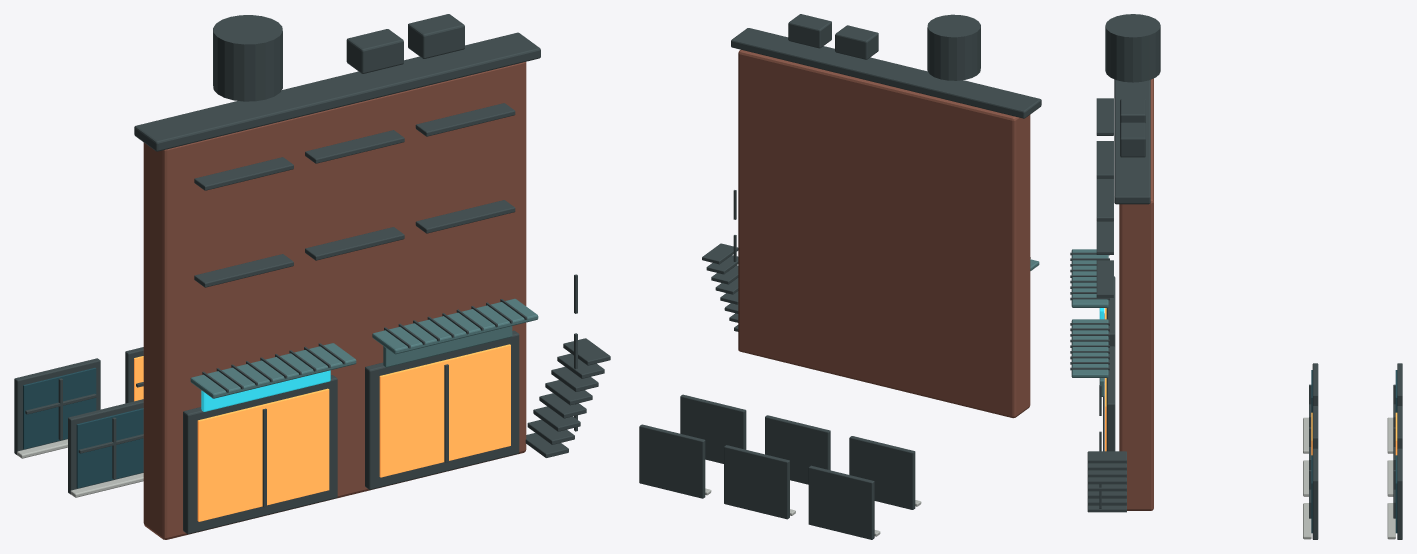
The model's file is facadeB.glb.
3 renders of one model, left to right at view 1: azimuth 30°, elevation 25°; view 2: azimuth 150°, elevation 25°; view 3: azimuth 270°, elevation 25°, orthographic. The views are drawn at different scales.
Visible parts, largest first — view 1: FacadeB_BrickShell, FacadeB_AwningRib, FacadeB_DisplayGlass, FacadeB_CorrugatedAwning, Window_Recess.003, FacadeB_Lightbox, Window_Sill.003; view 2: FacadeB_BrickShell, FacadeB_AwningRib; view 3: FacadeB_AwningRib, FacadeB_BrickShell, FacadeB_CorrugatedAwning, Window_Sill.003, Window_Recess.003.
Boxes of the visible parts, box(x1,y1,x2,y2) form: FacadeB_BrickShell: box(143, 62, 526, 539); FacadeB_AwningRib: box(14, 14, 610, 534); FacadeB_DisplayGlass: box(134, 344, 510, 521); FacadeB_CorrugatedAwning: box(190, 298, 538, 398); Window_Recess.003: box(23, 367, 143, 488); FacadeB_Lightbox: box(201, 370, 330, 411); Window_Sill.003: box(17, 439, 143, 497); FacadeB_BrickShell: box(738, 49, 1030, 418); FacadeB_AwningRib: box(639, 14, 1041, 539); FacadeB_AwningRib: box(1070, 14, 1402, 539); FacadeB_BrickShell: box(1119, 78, 1153, 510); FacadeB_CorrugatedAwning: box(1071, 249, 1108, 396); Window_Sill.003: box(1303, 417, 1395, 539); Window_Recess.003: box(1311, 370, 1397, 533).
Size of the model in its own units: 13.24 by 15.41 by 11.02.
